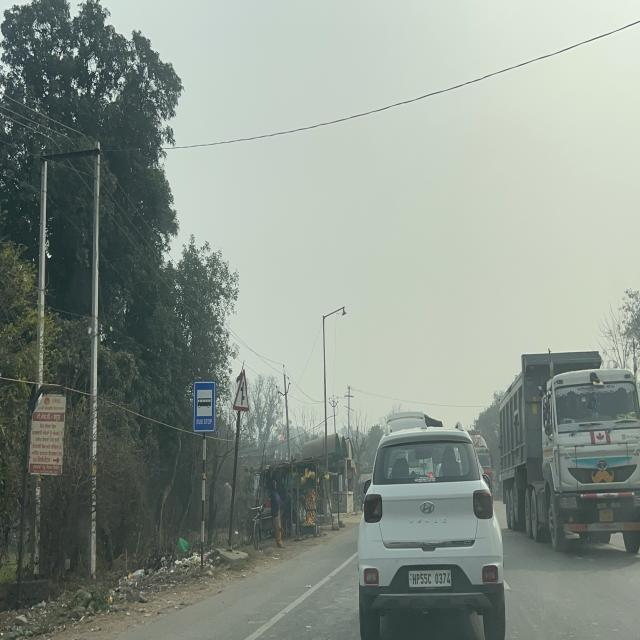INFORMATION: (193, 380, 216, 432)
STAGGERED_INTERSECTION: (232, 369, 250, 412)
